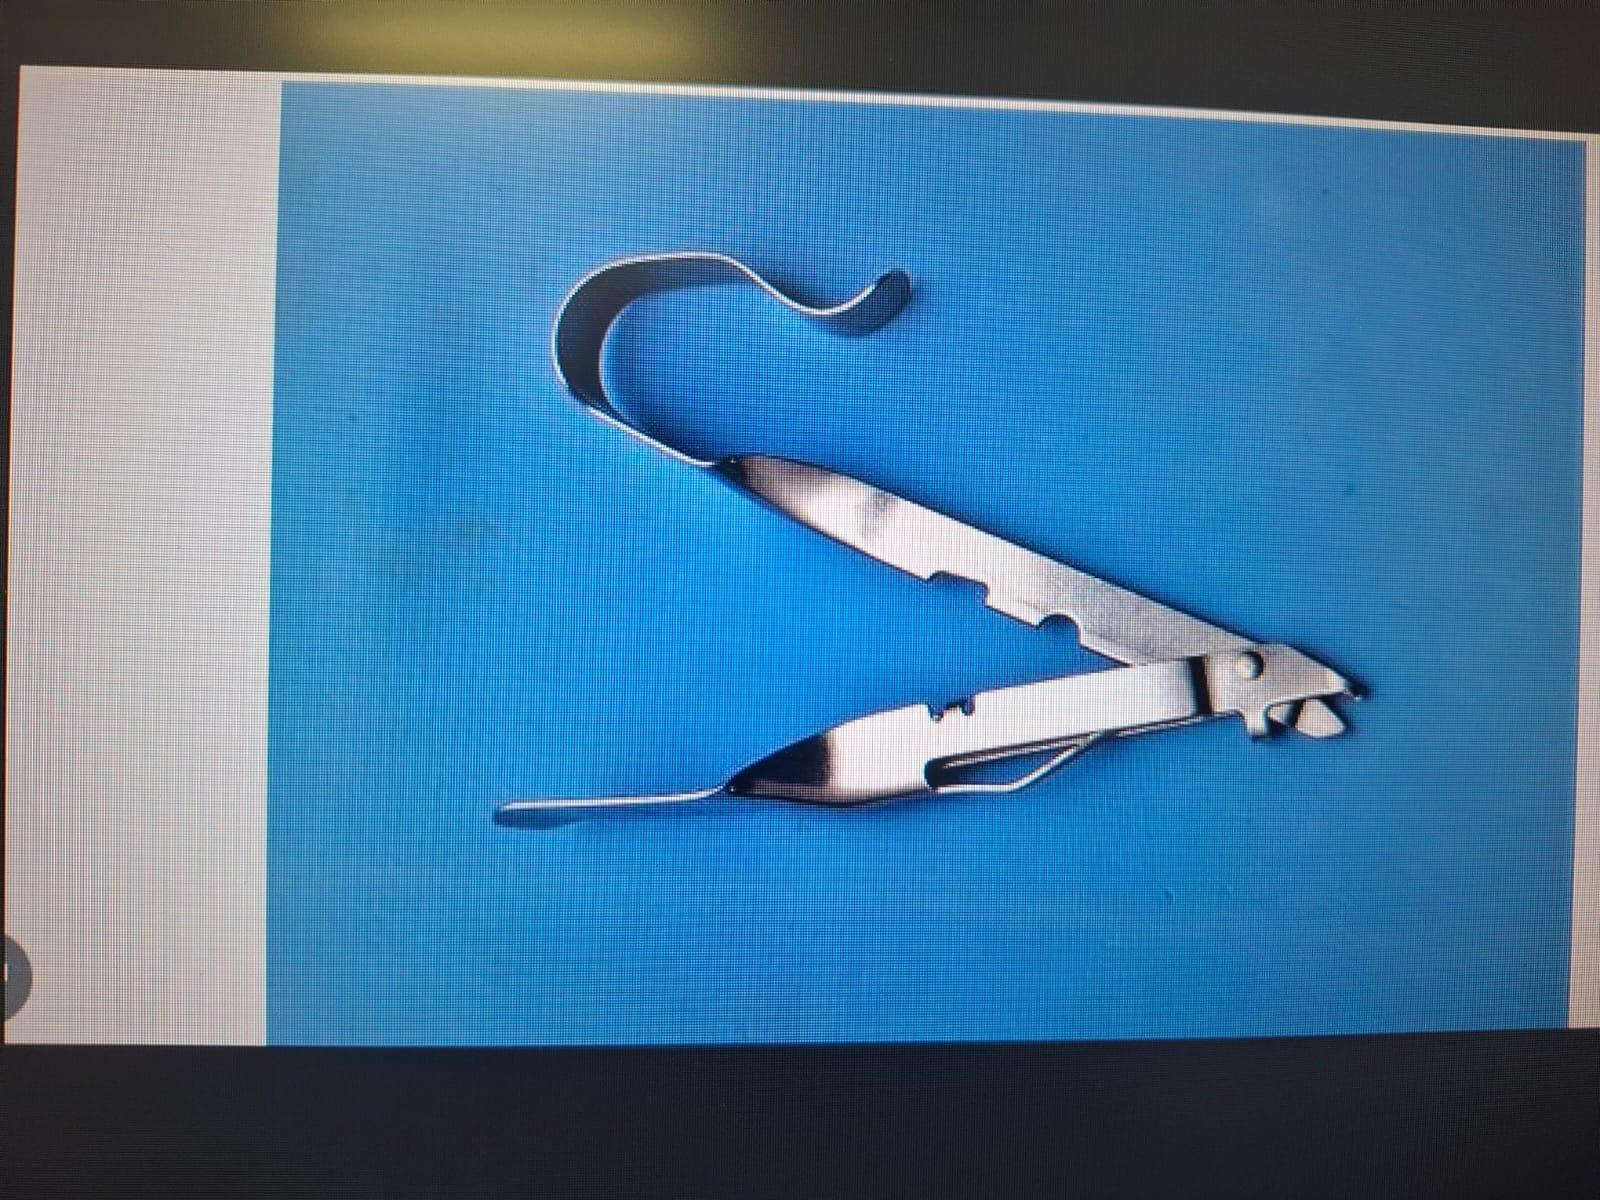Stapler Remover: (474, 242, 1385, 860)
